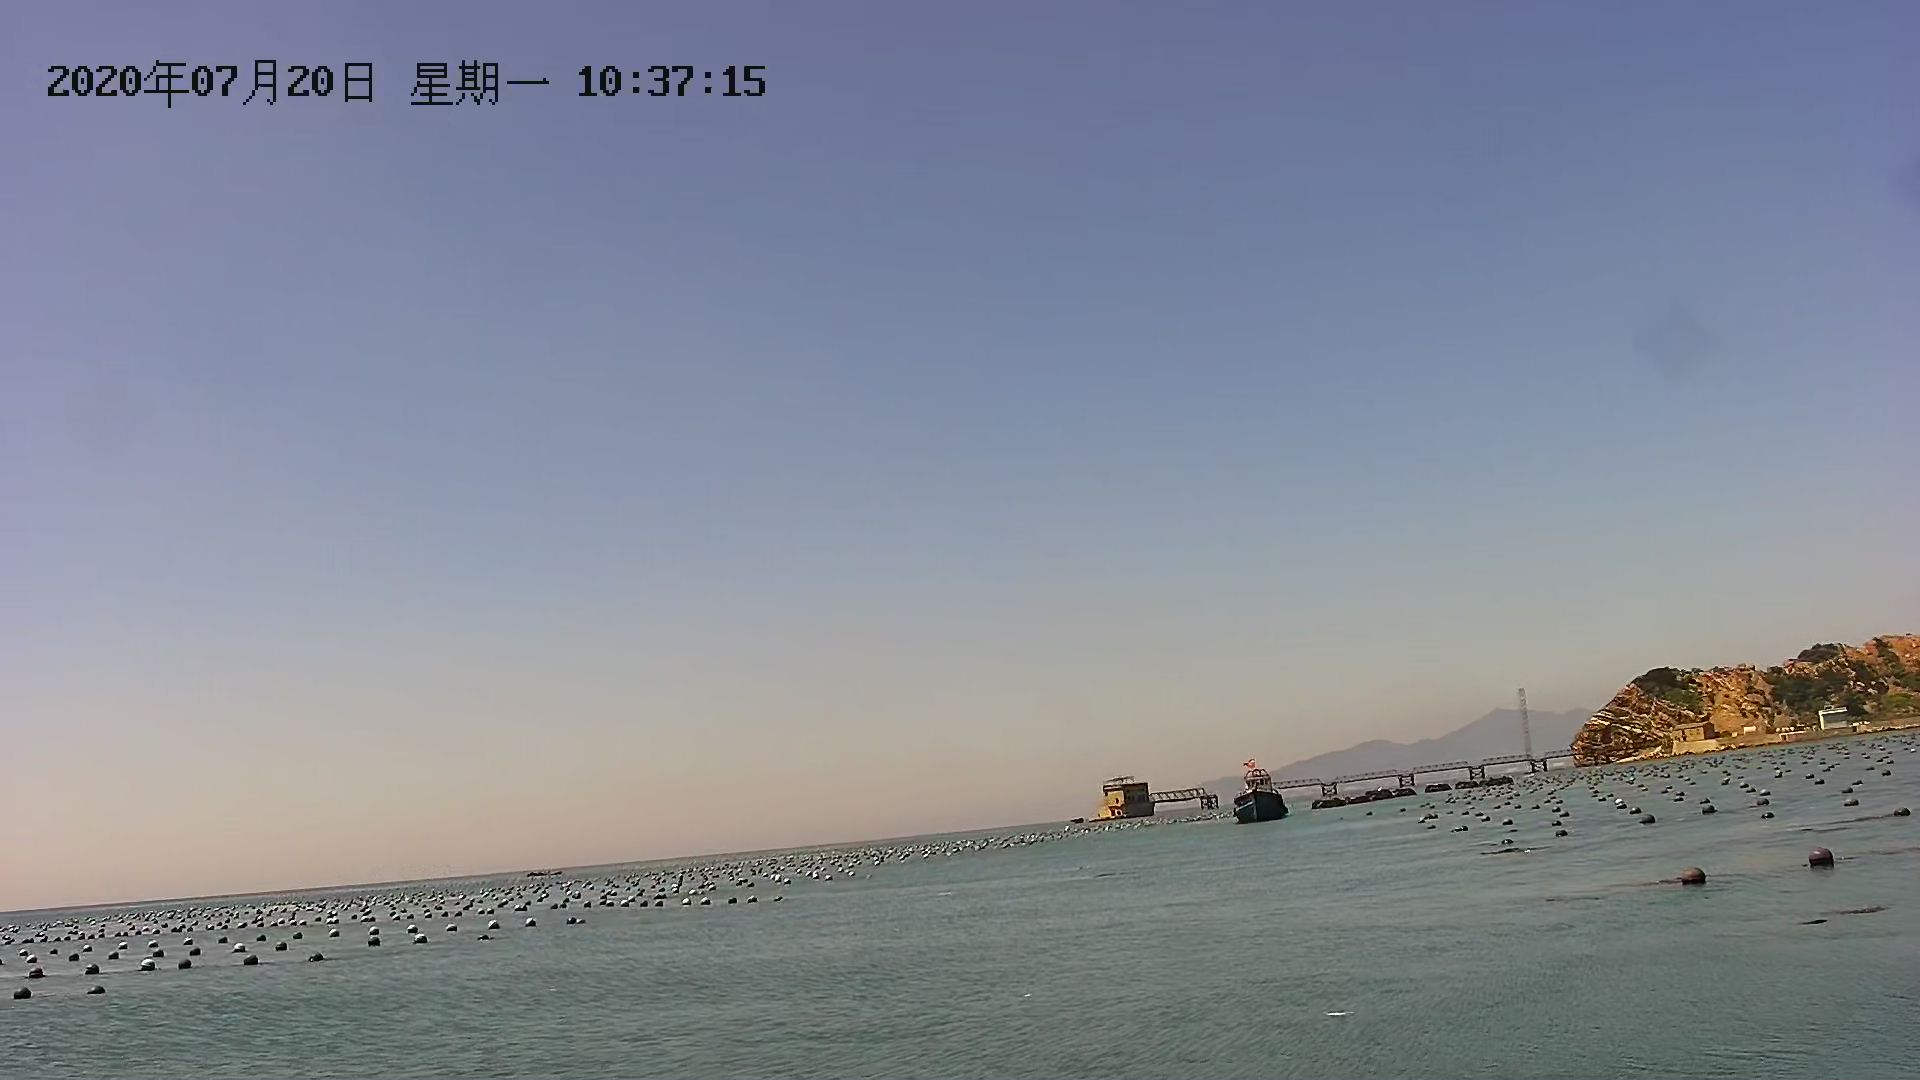ball: (1804, 843, 1842, 876), (1673, 861, 1712, 891)
harbor: (1098, 749, 1593, 815)
ship: (1225, 769, 1296, 825)
